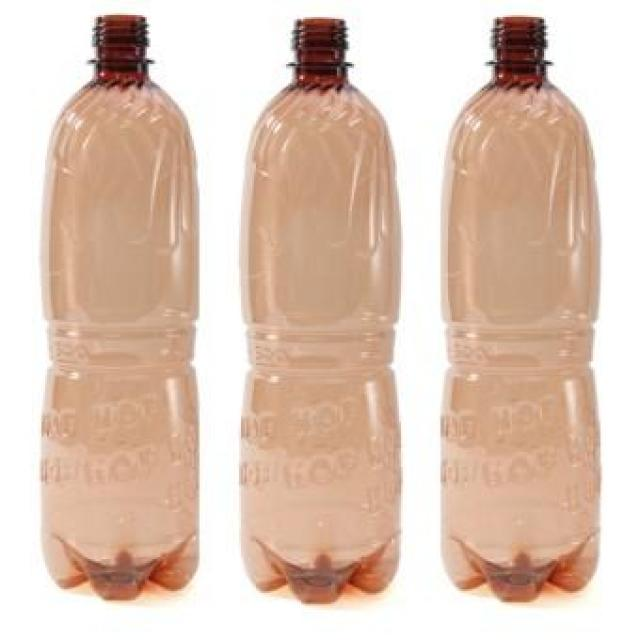bottle: (412, 14, 619, 602), (205, 13, 411, 601), (13, 14, 217, 596)
